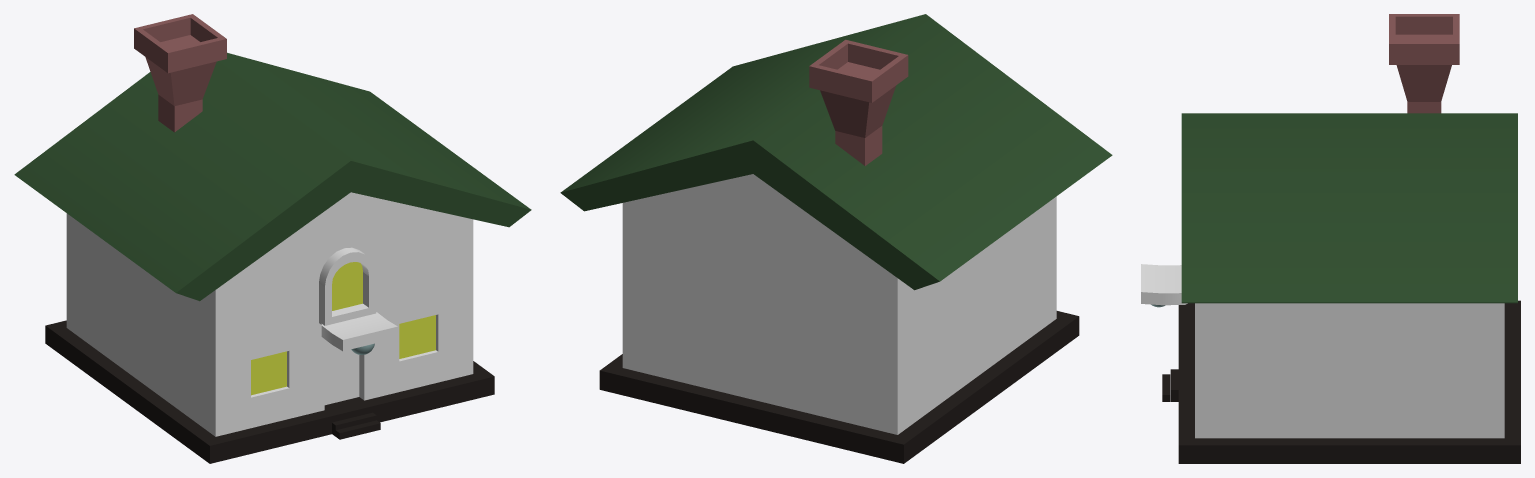
Rendered from House_3.fbx.
3 views of the same model, side by side, from view 1: azimuth 30°, elevation 25°; view 2: azimuth 150°, elevation 25°; view 3: azimuth 270°, elevation 25° (orthographic). The views are drawn at different scales.
Visible parts, largest first — view 1: polySurface7; view 2: polySurface7; view 3: polySurface7.
Part boxes in pixels (x1,y1,x2,y2): polySurface7: [14, 14, 531, 463]; polySurface7: [560, 14, 1112, 463]; polySurface7: [1141, 14, 1520, 463].
Size of the model in its own units: 31.09 by 26.9 by 27.61.
